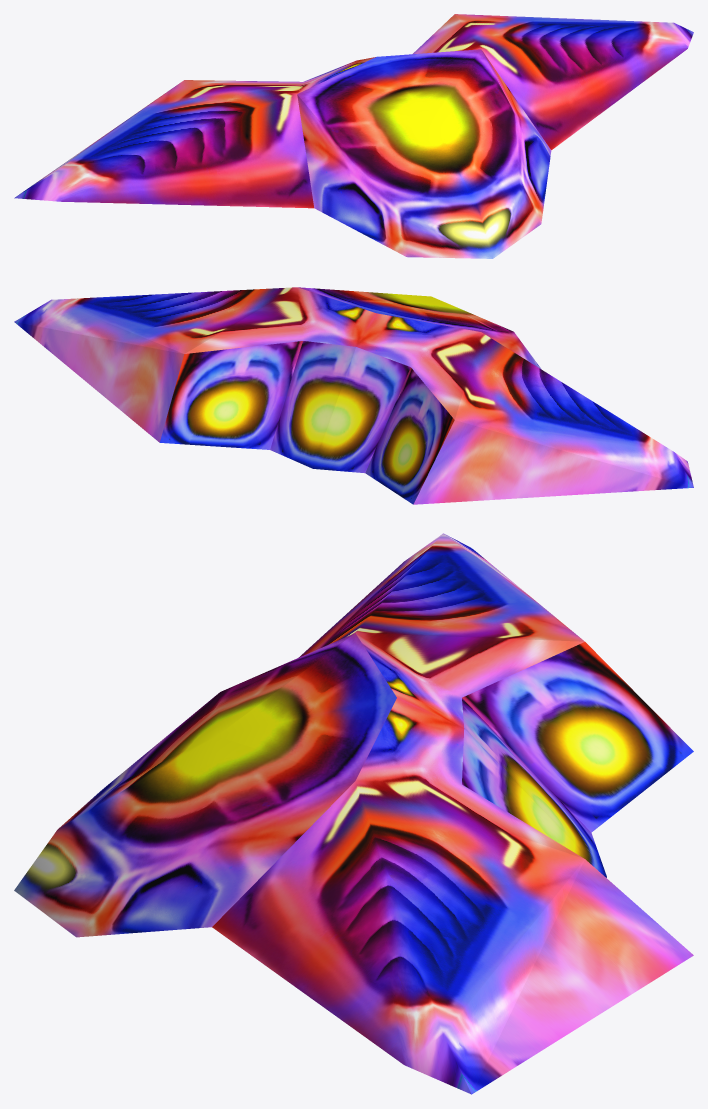
File: ship-47.fbx
The picture shows the model from 3 angles, top to bottom: view 1: azimuth 30°, elevation 25°; view 2: azimuth 150°, elevation 25°; view 3: azimuth 270°, elevation 25°; orthographic projection. The views are drawn at different scales.
Visible parts, largest first — view 1: ship-47; view 2: ship-47; view 3: ship-47.
Part boxes in pixels (x1=…): ship-47: x1=14, y1=14, x2=693, y2=258; ship-47: x1=14, y1=287, x2=693, y2=504; ship-47: x1=14, y1=533, x2=693, y2=1094.
Bounding box in the file's own units: 74.07 × 13.27 × 38.94.
